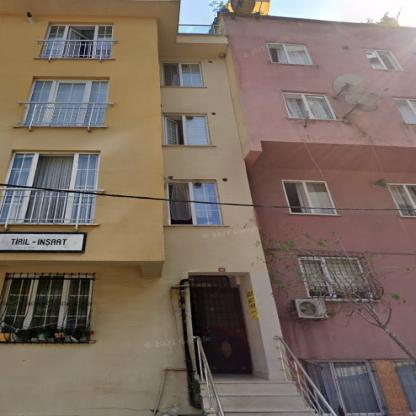door: (194, 281, 252, 374)
window: (0, 154, 94, 218), (3, 276, 88, 324), (23, 79, 108, 125), (309, 360, 381, 414), (302, 256, 371, 298), (44, 25, 112, 57), (171, 181, 220, 224), (284, 181, 335, 212), (285, 92, 336, 117), (391, 358, 414, 413), (168, 116, 210, 146), (364, 49, 404, 70), (266, 43, 310, 62), (393, 185, 415, 219), (166, 63, 201, 84), (395, 97, 415, 124)
